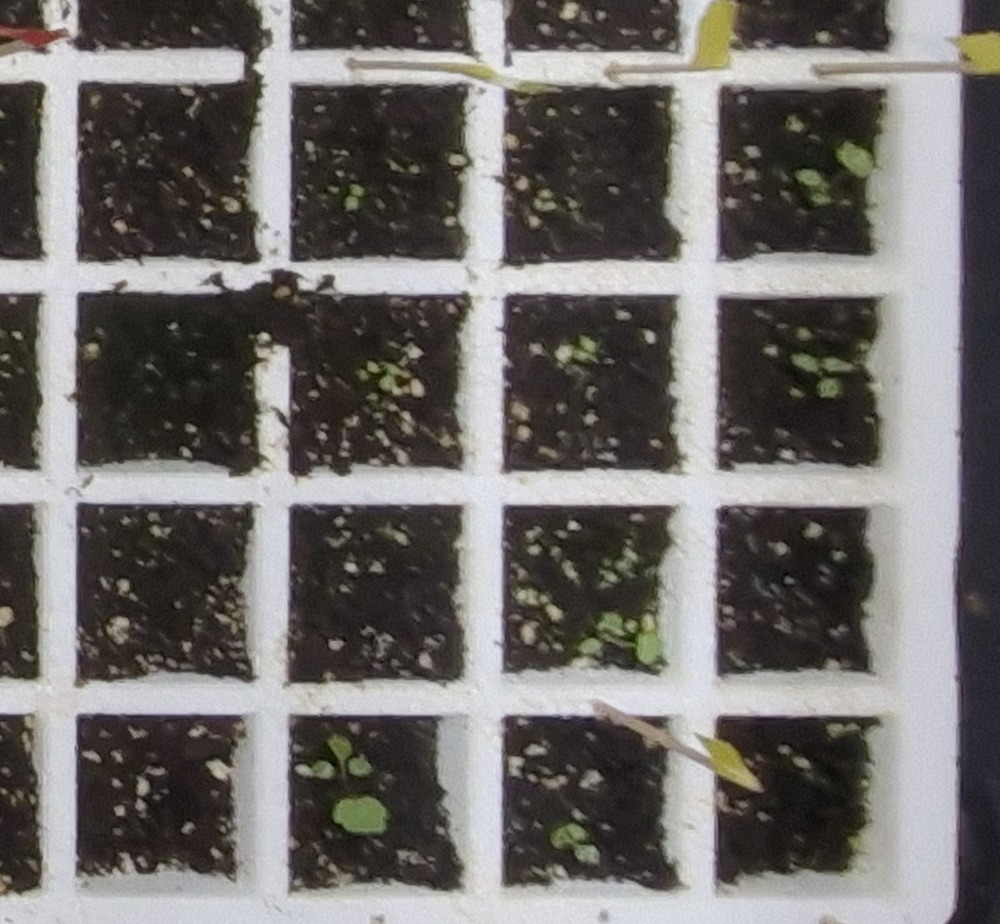Folha: (331, 795, 389, 832), (838, 144, 873, 177), (638, 631, 659, 665), (576, 845, 600, 866), (597, 613, 624, 631), (330, 738, 352, 760), (794, 353, 817, 372), (795, 170, 822, 185), (548, 827, 568, 847), (577, 638, 603, 653), (819, 379, 839, 397), (566, 823, 586, 841), (350, 758, 370, 776), (316, 760, 333, 778), (825, 357, 845, 372), (380, 376, 394, 391), (346, 195, 359, 209), (812, 194, 832, 203), (350, 185, 365, 196), (387, 365, 400, 375)
Germinacao: (315, 737, 387, 833), (795, 141, 874, 204), (581, 612, 659, 663), (793, 354, 853, 397), (550, 821, 601, 864), (381, 364, 403, 391), (347, 185, 363, 210)
